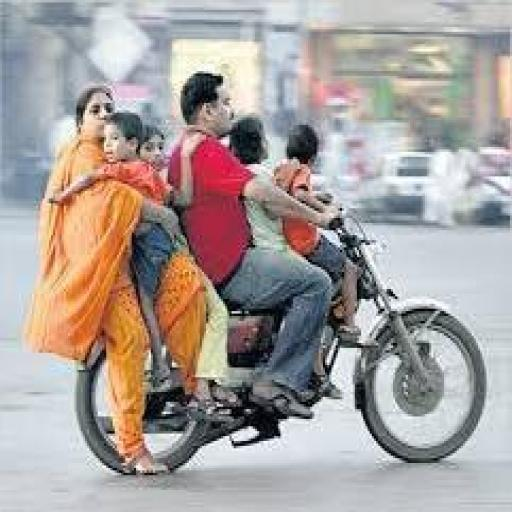no helmet: (171, 62, 256, 165)
triple riding: (36, 42, 504, 476)
